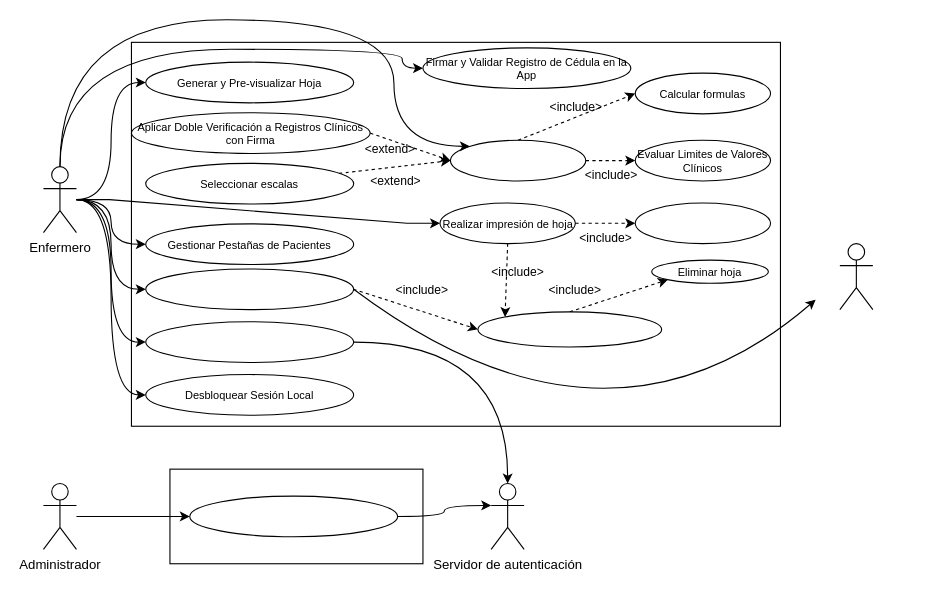
This 936x591 diagram has some shape labels left out. Each missing label, with the centre of its shape:
"Autenticar y Generar Token" belongs at point (249, 341).
"Capturar Datos Clinicos" belongs at point (517, 160).
"Confirmar (Recepción/Impresión )" belongs at point (569, 329).
"Enfermero (receptor)" belongs at point (856, 276).
"Gestionar Cédulas" belongs at point (293, 516).
"Transferir Hoja de Enfermería (P2P)" belongs at point (249, 289).
"Verificar información necesaria" belongs at point (702, 223).
